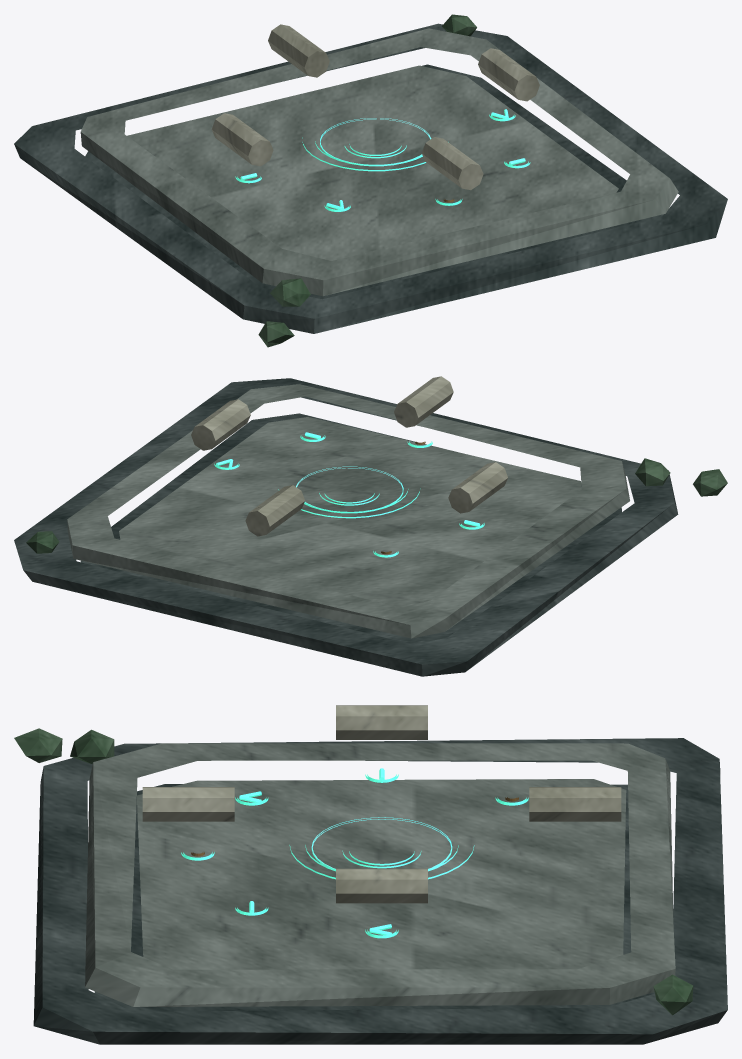
The model's file is 0575_rune_dais_25.glb.
The picture shows the model from 3 angles, top to bottom: view 1: azimuth 30°, elevation 25°; view 2: azimuth 150°, elevation 25°; view 3: azimuth 270°, elevation 25°; orthographic projection. The views are drawn at different scales.
Visible parts, largest first — view 1: stone, stone_dark, stone_light, moss, glow; view 2: stone, stone_dark, stone_light, moss, glow; view 3: stone, stone_dark, stone_light, moss, glow.
Boxes of the visible parts, left/top/right/bottom form: stone: left=80, top=28, right=678, bottom=296; stone_dark: left=14, top=23, right=727, bottom=333; stone_light: left=211, top=24, right=539, bottom=190; moss: left=258, top=14, right=476, bottom=347; glow: left=235, top=109, right=530, bottom=211; stone: left=67, top=384, right=629, bottom=638; stone_dark: left=14, top=378, right=678, bottom=676; stone_light: left=191, top=376, right=507, bottom=536; moss: left=26, top=458, right=727, bottom=553; glow: left=214, top=432, right=484, bottom=557; stone: left=85, top=743, right=675, bottom=1006; stone_dark: left=33, top=738, right=727, bottom=1044; stone_light: left=142, top=705, right=621, bottom=903; moss: left=14, top=728, right=693, bottom=1015; glow: left=181, top=768, right=528, bottom=938.
Size of the model in its own units: 3.86 by 0.7087 by 3.88.
6 materials, 6 textured.
